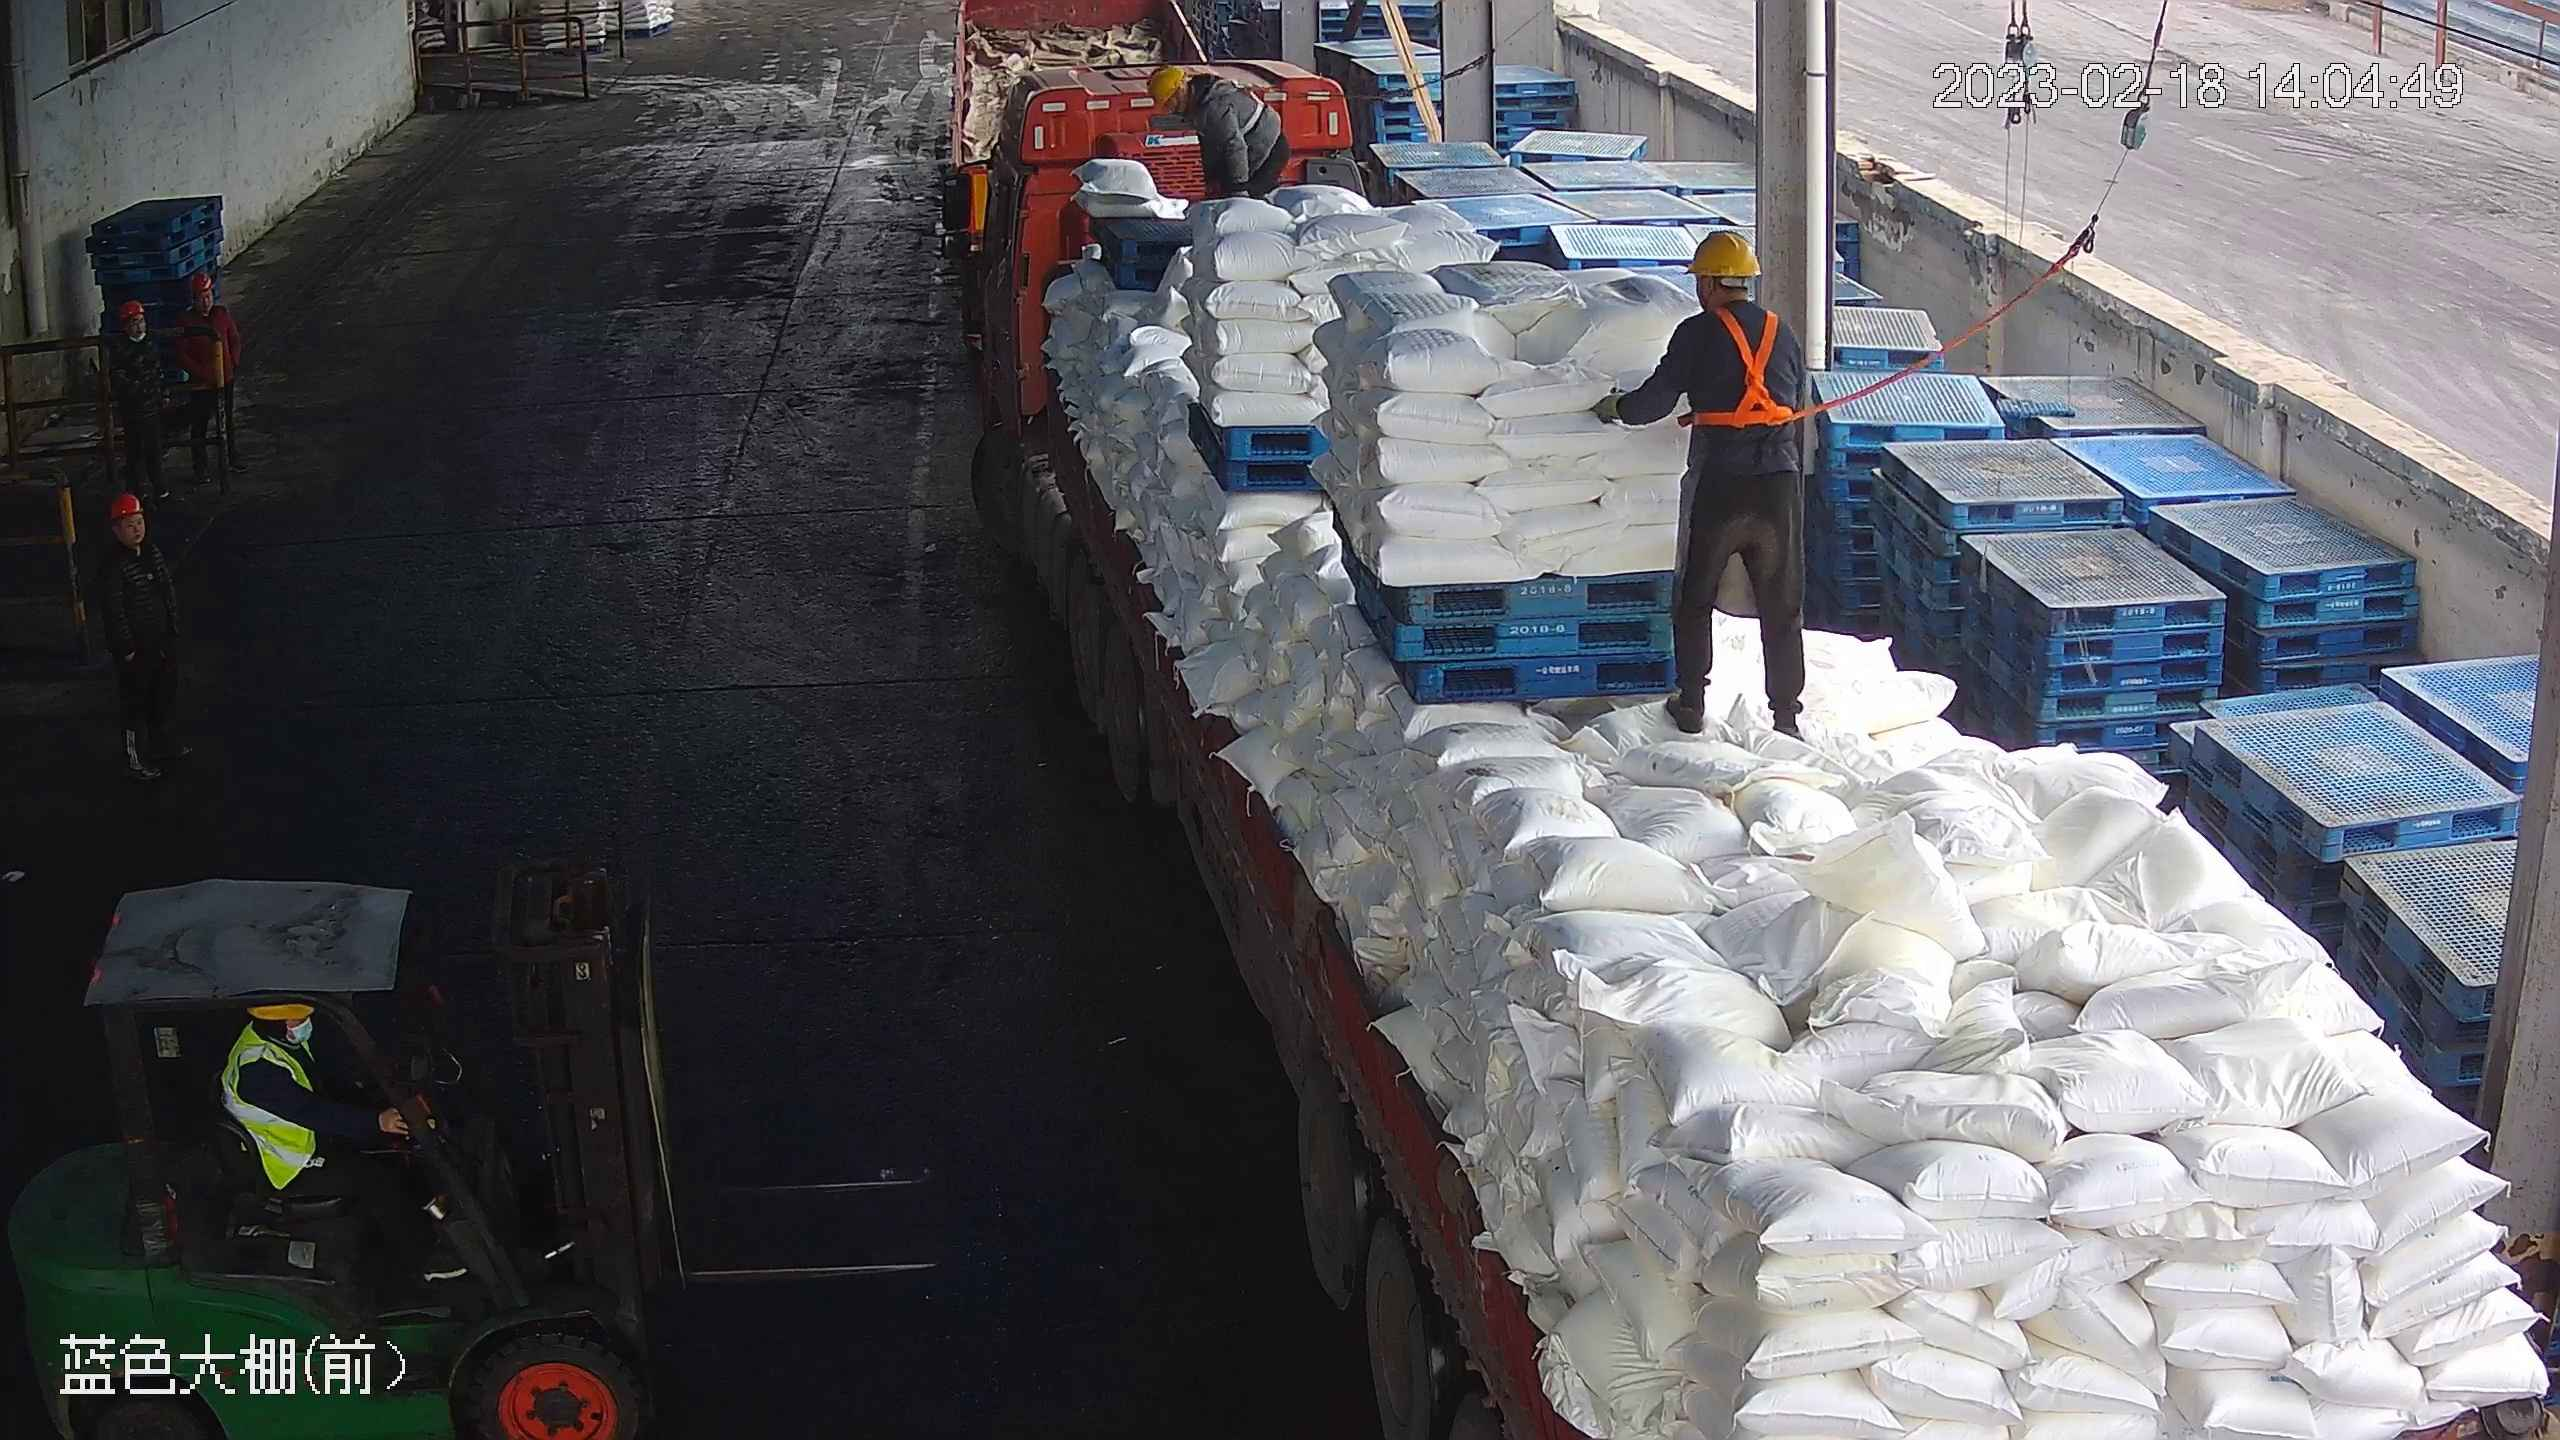belt: (1686, 299, 1804, 429), (1194, 68, 1266, 143)
head: (1658, 226, 1807, 368), (89, 491, 171, 589), (1147, 60, 1239, 126), (171, 268, 230, 334), (108, 293, 167, 359)
helmet: (1680, 228, 1760, 279), (1148, 62, 1189, 106), (105, 491, 143, 522), (117, 295, 149, 320), (189, 273, 214, 293)
people: (1591, 225, 1822, 747), (215, 990, 438, 1282), (89, 491, 181, 787), (1147, 62, 1287, 199), (173, 270, 255, 485)
truck: (945, 40, 2549, 1440)
